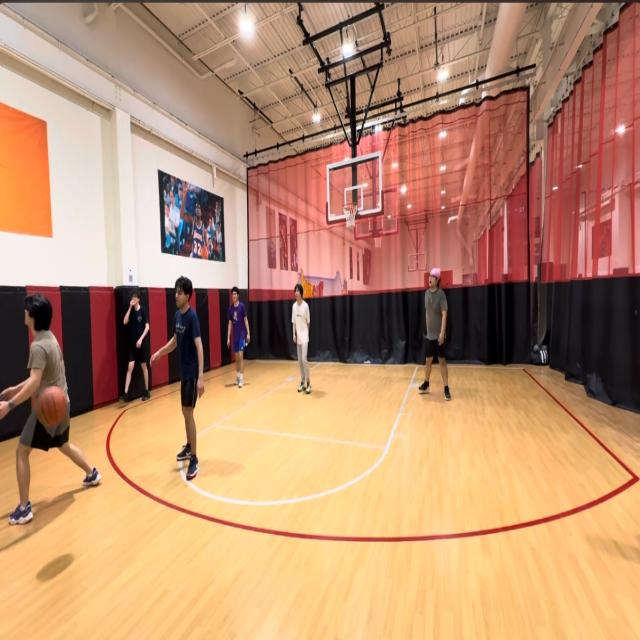Basketball: (38, 386, 67, 430)
Basketball Rim: (342, 203, 358, 228)
